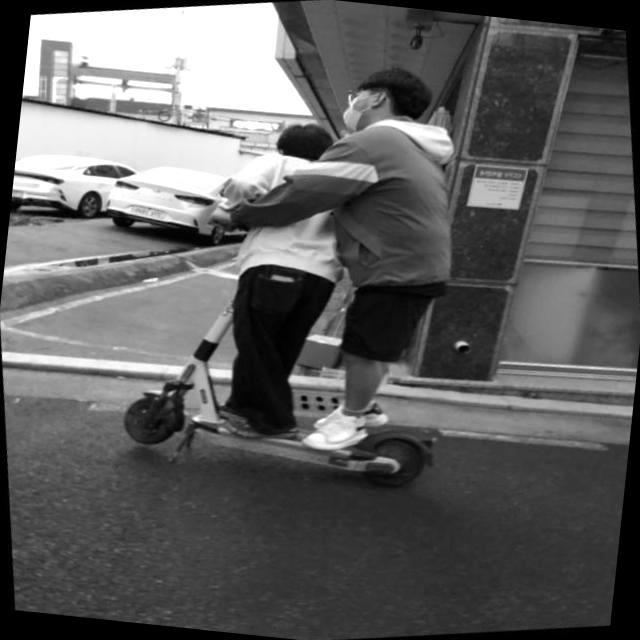bare_head: (333, 69, 427, 129), (269, 119, 339, 164)
human: (287, 64, 452, 452), (204, 116, 341, 429)
kickboard: (117, 370, 443, 499)
